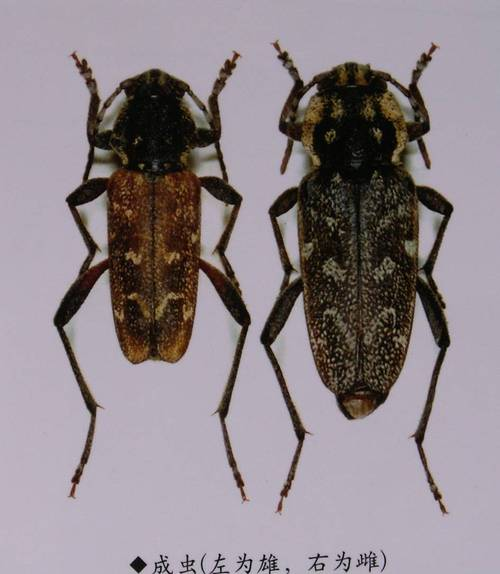Curculionidae: (260, 39, 454, 516), (53, 50, 252, 504)
